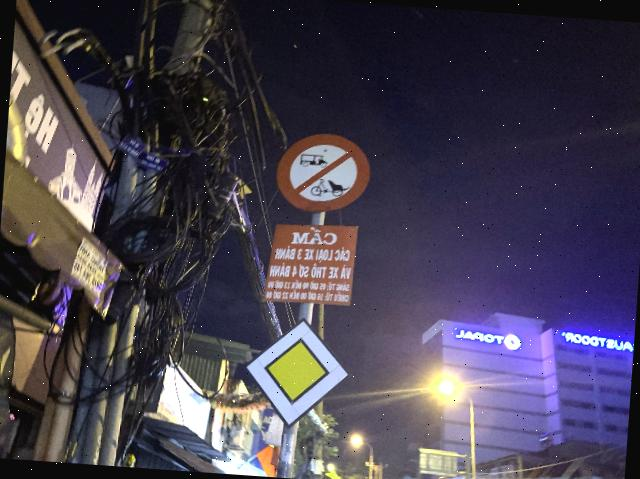bat-dau-duong-uu-tien: (240, 312, 354, 434)
cam-xe-3-banh-xe-tho-so-4-banh: (274, 128, 372, 216)
